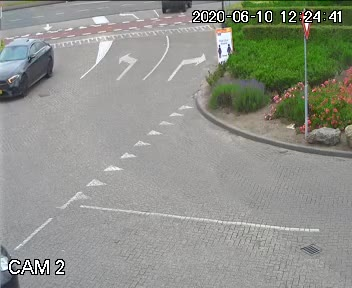car: (0, 40, 61, 101)
